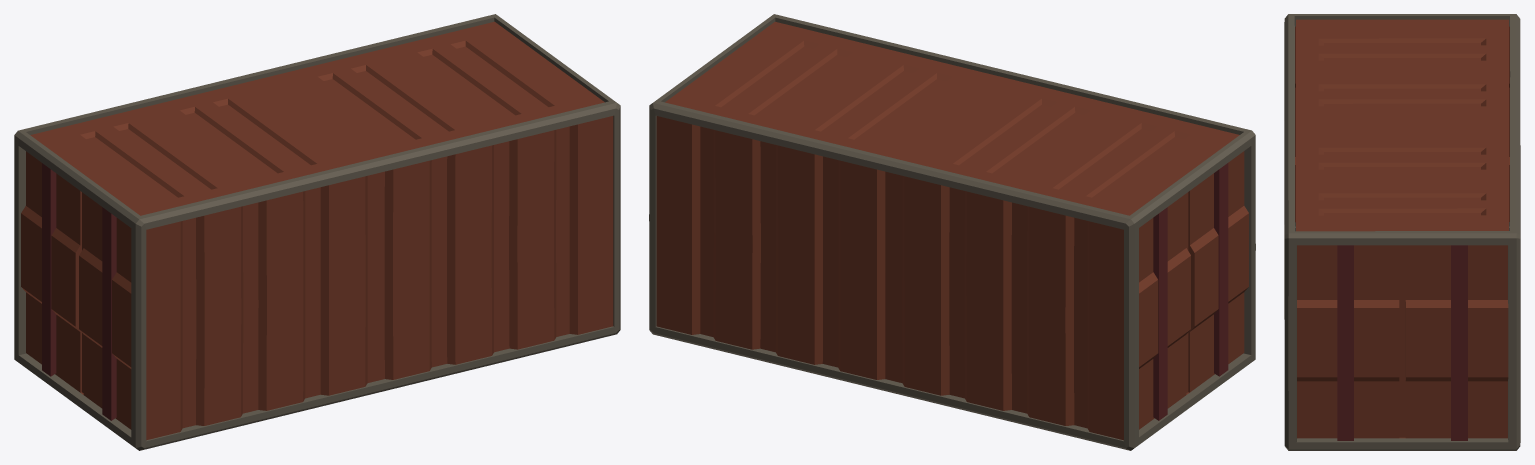
File: prop_container_red.glb
3 views of the same model, side by side, from view 1: azimuth 30°, elevation 25°; view 2: azimuth 150°, elevation 25°; view 3: azimuth 270°, elevation 25° (orthographic). The views are drawn at different scales.
Parts seen in each view (by area): view 1: Container_Red; view 2: Container_Red; view 3: Container_Red.
Part boxes in pixels (box(x1,y1,x2,y2)): Container_Red: box(14, 14, 620, 450); Container_Red: box(649, 14, 1255, 450); Container_Red: box(1284, 14, 1520, 450).
Bounding box in the file's own units: 5.71 × 2.6 × 2.56.
1 material, 1 textured.
